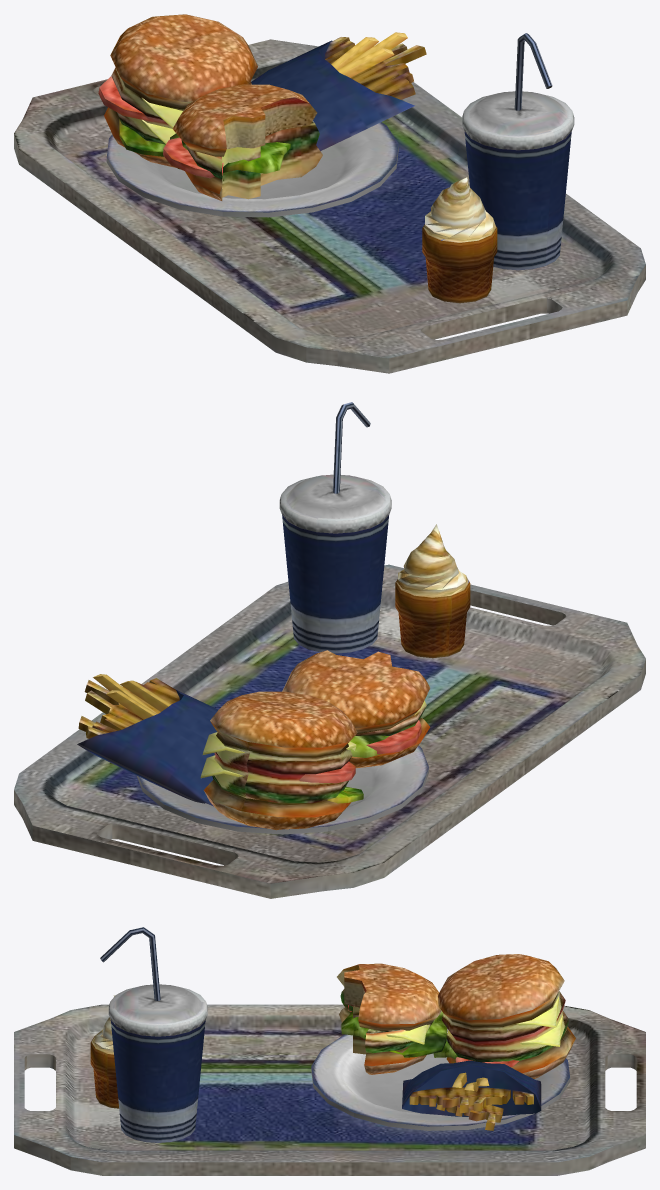
File: burgerdish01.fbx
3 views of the same model, one above another, from view 1: azimuth 30°, elevation 25°; view 2: azimuth 150°, elevation 25°; view 3: azimuth 270°, elevation 25° (orthographic). The views are drawn at different scales.
Parts seen in each view (by area): view 1: burgerdish01_obj_uni12_ag; view 2: burgerdish01_obj_uni12_ag; view 3: burgerdish01_obj_uni12_ag.
Part boxes in pixels (x1=…): burgerdish01_obj_uni12_ag: x1=14, y1=14, x2=645, y2=373; burgerdish01_obj_uni12_ag: x1=14, y1=402, x2=645, y2=898; burgerdish01_obj_uni12_ag: x1=14, y1=927, x2=645, y2=1175.
Size of the model in its own units: 40.2 by 24.82 by 67.98.
